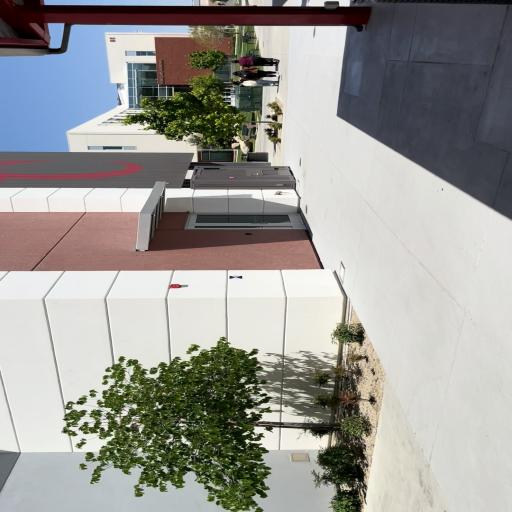target6: (229, 275, 243, 279)
